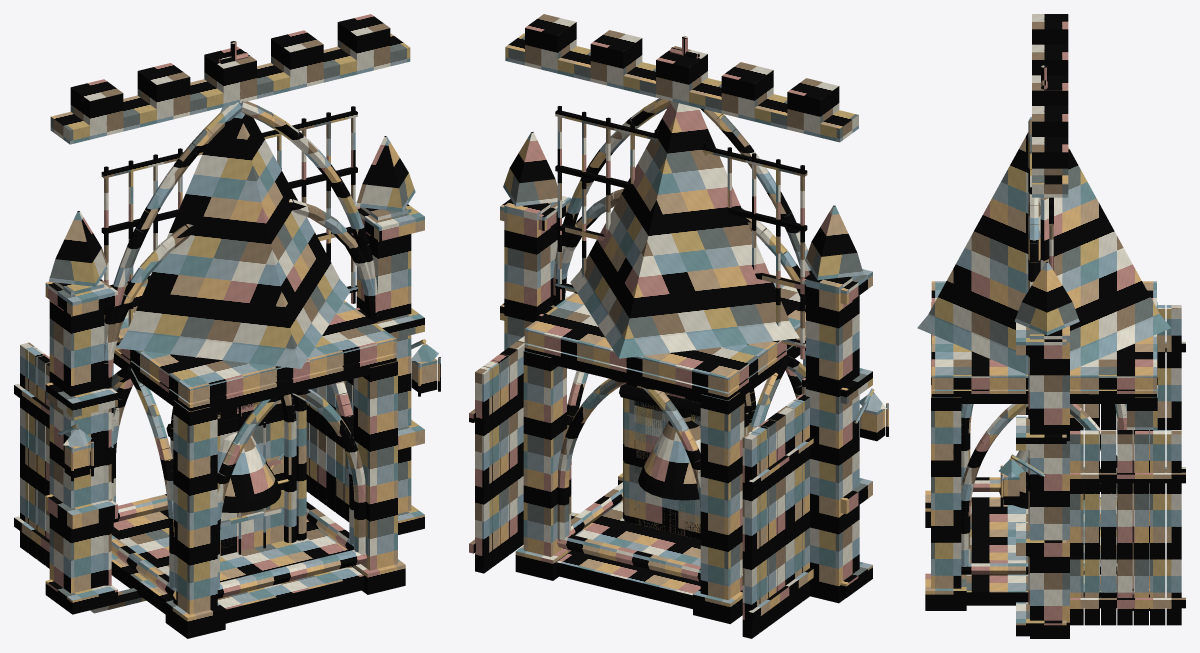
The model's file is church.glb.
3 renders of one model, left to right at view 1: azimuth 30°, elevation 25°; view 2: azimuth 150°, elevation 25°; view 3: azimuth 270°, elevation 25°, orthographic. The views are drawn at different scales.
Parts seen in each view (by area): view 1: cathedral_belfry_01, gate_arch_trim_01, gate_hardware_01, cathedral_openings_01__lancet_window, gate_arch_trim_02, cathedral_openings_01__pointed_door; view 2: cathedral_belfry_01, gate_arch_trim_01, gate_hardware_01, cathedral_openings_01__pointed_door, cathedral_openings_01__lancet_window, gate_arch_trim_02; view 3: cathedral_belfry_01, gate_hardware_01, gate_arch_trim_01.
Part boxes in pixels (box(x1,y1,x2,y2)): cathedral_belfry_01: box(111, 41, 405, 638); gate_arch_trim_01: box(45, 14, 424, 614); gate_hardware_01: box(14, 106, 440, 568); cathedral_openings_01__lancet_window: box(217, 394, 296, 555); gate_arch_trim_02: box(108, 199, 375, 380); cathedral_openings_01__pointed_door: box(170, 394, 306, 553); cathedral_belfry_01: box(515, 36, 805, 624); gate_arch_trim_01: box(500, 14, 872, 603); gate_hardware_01: box(469, 106, 888, 638); cathedral_openings_01__pointed_door: box(623, 383, 756, 539); cathedral_openings_01__lancet_window: box(634, 385, 700, 539); gate_arch_trim_02: box(555, 188, 805, 309); cathedral_belfry_01: box(917, 65, 1170, 610); gate_hardware_01: box(999, 197, 1185, 625); gate_arch_trim_01: box(1014, 14, 1079, 638).
Bounding box in the file's own units: 5.64 × 7.59 × 3.7.
Materials: 1 (1 with a texture image).
